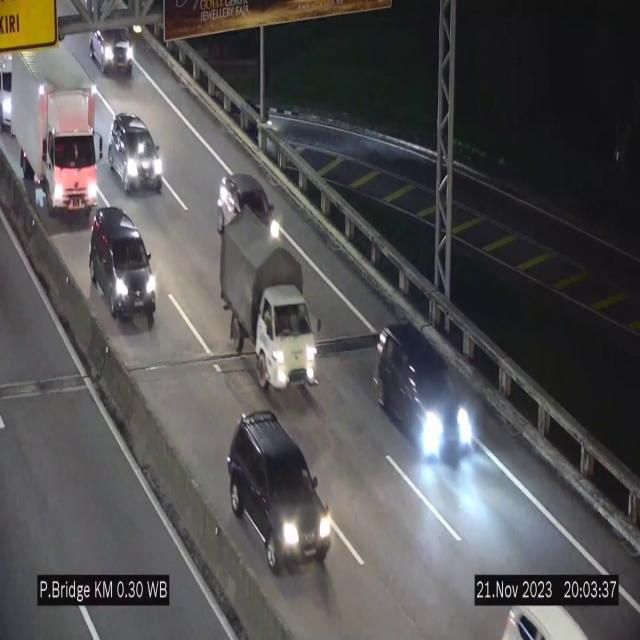Car: (229, 407, 334, 582), (376, 318, 470, 470), (90, 207, 156, 325), (214, 169, 280, 239), (108, 114, 162, 194), (82, 20, 140, 84)
Truck: (216, 202, 324, 393), (9, 42, 105, 215)
